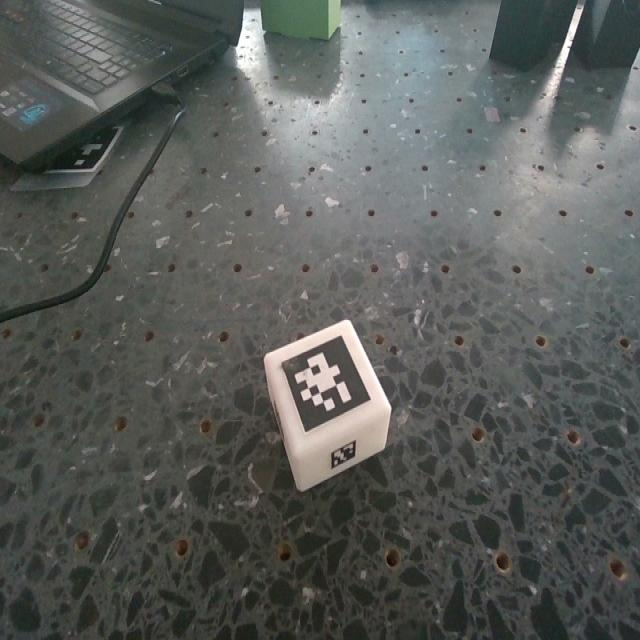Cube: (263, 315, 392, 492)
